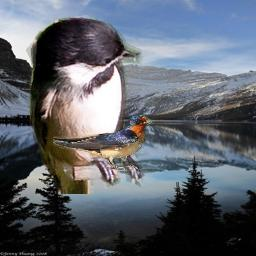Swallow: (26, 12, 148, 194), (53, 115, 152, 171)
